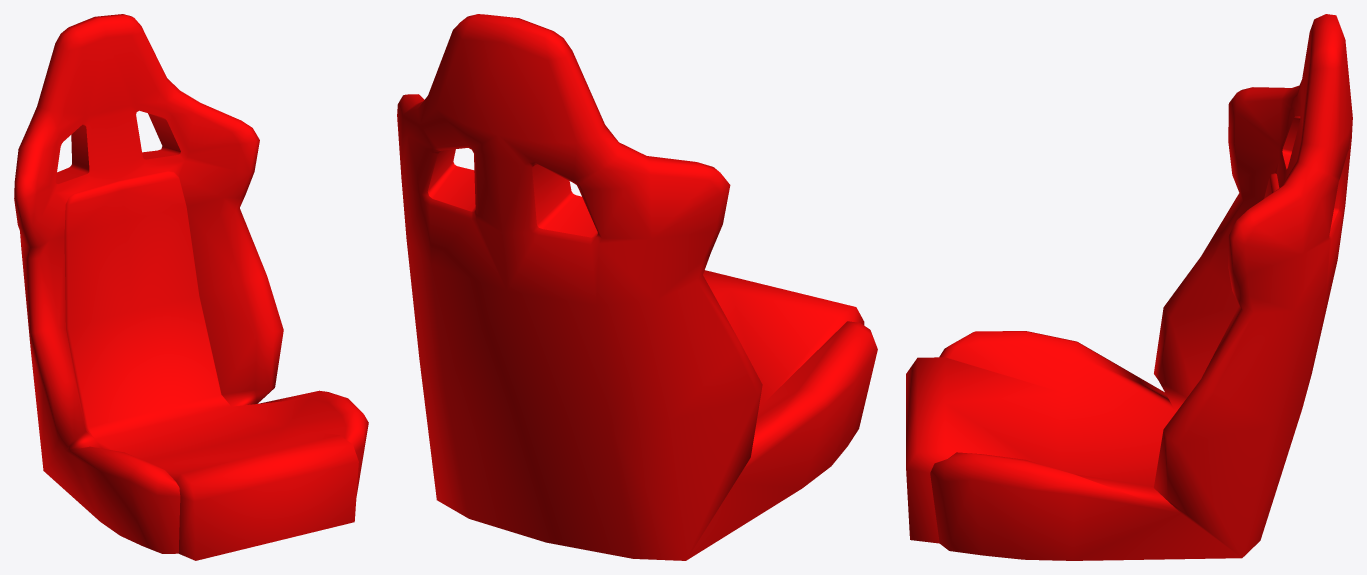
File: Mini_Seat.fbx
3 views of the same model, side by side, from view 1: azimuth 30°, elevation 25°; view 2: azimuth 150°, elevation 25°; view 3: azimuth 270°, elevation 25° (orthographic). The views are drawn at different scales.
Visible parts, largest first — view 1: Mini_Seat; view 2: Mini_Seat; view 3: Mini_Seat.
Boxes of the visible parts, x1,y1,x2,y2 form: Mini_Seat: (14, 14, 368, 560); Mini_Seat: (397, 14, 877, 560); Mini_Seat: (906, 14, 1352, 560).
Size of the model in its own units: 0.5349 by 0.8199 by 0.6904.
